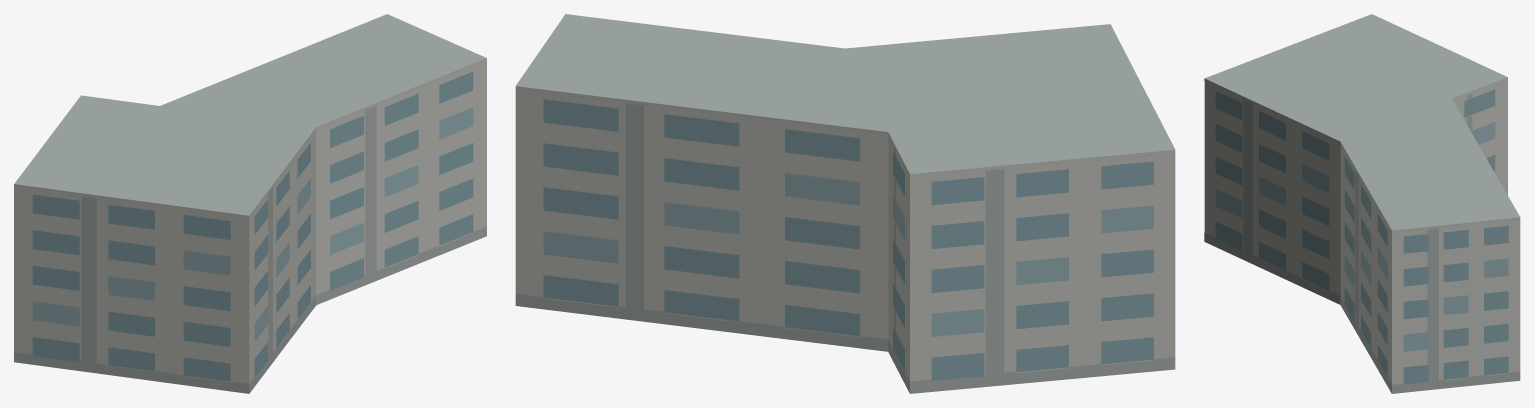
The model's file is residential-dfbc812e-1011-4b64-b2a2-28dbab0827e4.glb.
3 views of the same model, side by side, from view 1: azimuth 30°, elevation 25°; view 2: azimuth 150°, elevation 25°; view 3: azimuth 270°, elevation 25° (orthographic). The views are drawn at different scales.
Parts seen in each view (by area): view 1: residential-dfbc812e-1011-4b64-b2a2-28dbab0827e4.tmp; view 2: residential-dfbc812e-1011-4b64-b2a2-28dbab0827e4.tmp; view 3: residential-dfbc812e-1011-4b64-b2a2-28dbab0827e4.tmp.
Part boxes in pixels (box(x1,y1,x2,y2)): residential-dfbc812e-1011-4b64-b2a2-28dbab0827e4.tmp: box(14, 14, 486, 393); residential-dfbc812e-1011-4b64-b2a2-28dbab0827e4.tmp: box(515, 14, 1175, 393); residential-dfbc812e-1011-4b64-b2a2-28dbab0827e4.tmp: box(1204, 14, 1520, 393).
Size of the model in its own units: 43.34 by 15.25 by 26.73.
